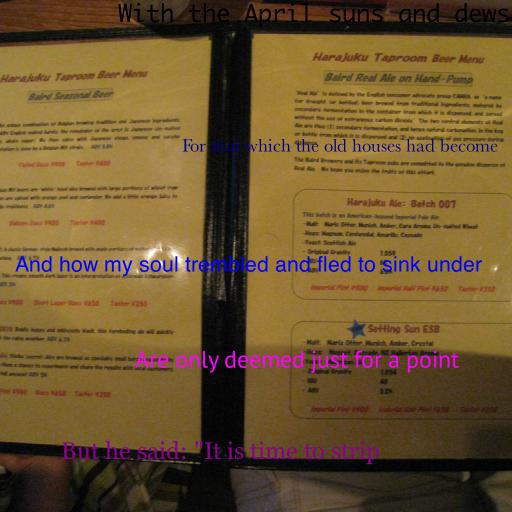Baskerville: (182, 138, 498, 152)
Georgia: (60, 440, 380, 465)
Monaco: (118, 2, 510, 28)
PT Sans: (135, 350, 459, 373)
SignPainter: (14, 256, 482, 277)
